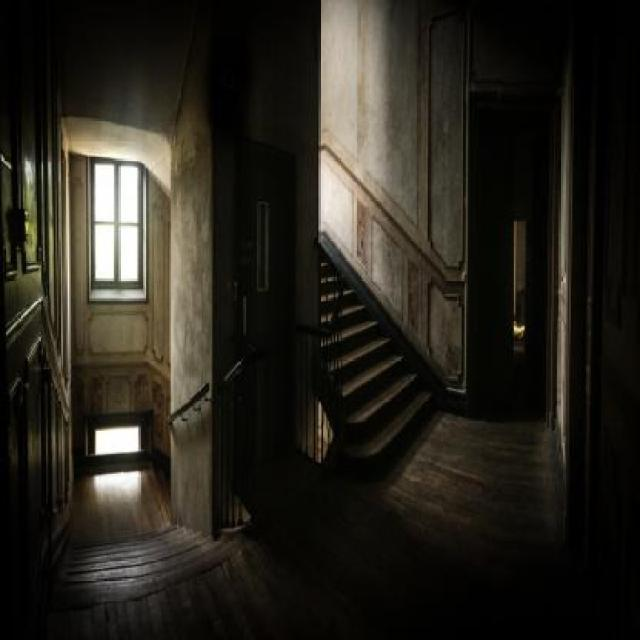stair: (320, 242, 440, 480), (43, 517, 240, 614)
